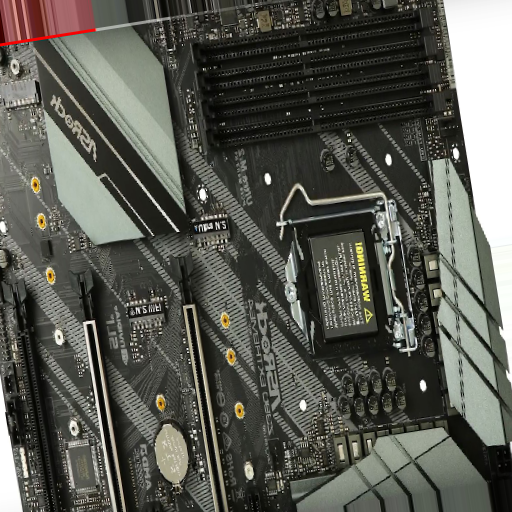CPU: (281, 222, 410, 348)
GPU: (168, 251, 234, 512), (67, 269, 131, 511), (2, 279, 62, 510)
MOTHERBOARD: (2, 3, 511, 508)
RAM: (186, 9, 448, 150)
SSD: (124, 290, 168, 332), (191, 217, 230, 250)
